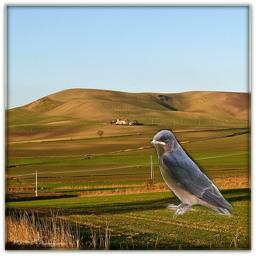Swallow: (150, 129, 234, 219)
